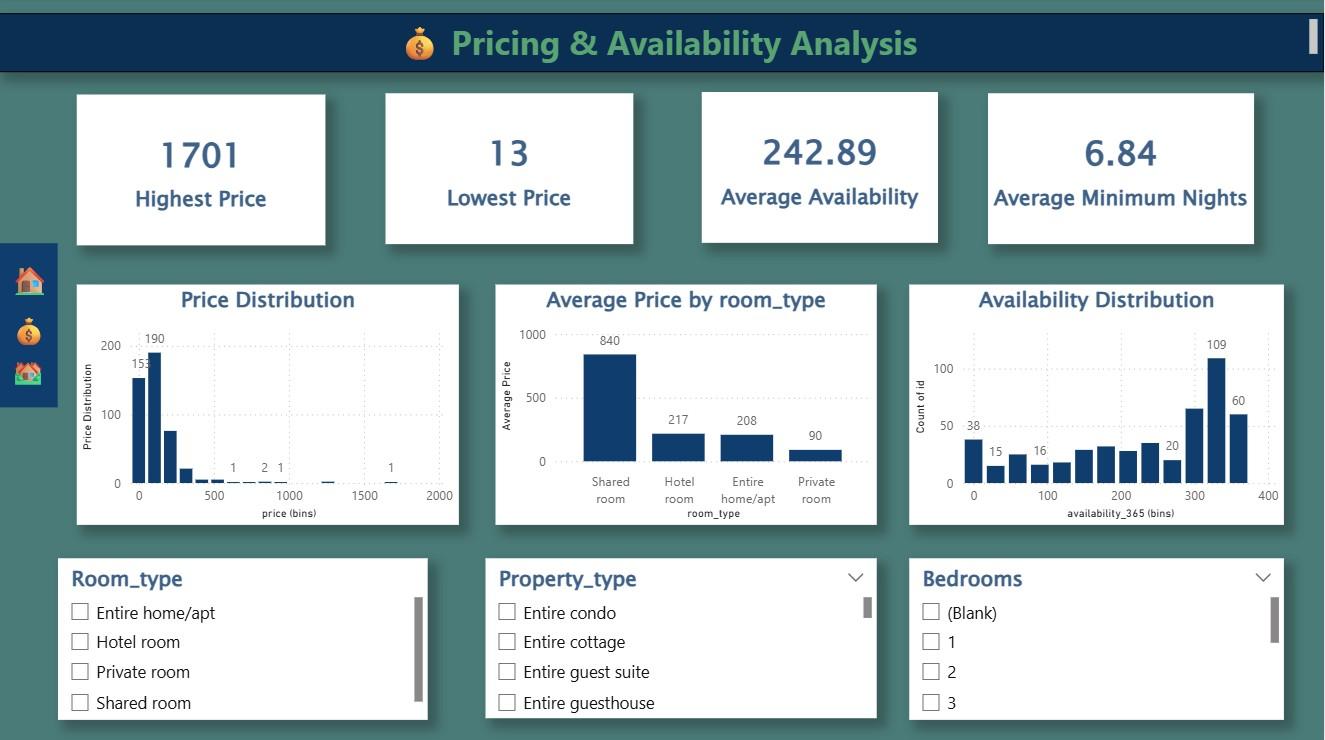

Layout of this report page (visuals, bound fields, positions):
{"tool":"powerbi","page":{"name":"Pricing & Availability","canvas":[1280,720],"ordinal":1},"visuals":[{"type":"textbox","box":[0,15.7,1280,56.7],"z":0},{"type":"card","fields":{"Values":["Fields.Highest Price"]},"box":[76,94.1,240.1,146],"z":1000},{"type":"card","fields":{"Values":["Fields.Lowest Price"]},"box":[374,92.9,238.9,146],"z":2000},{"type":"card","fields":{"Values":["Fields.Average Availability"]},"box":[679.2,91.7,228,146],"z":3000},{"type":"card","fields":{"Values":["Fields.Average Minimum Nights"]},"box":[955.5,92.9,257,146],"z":4000},{"type":"clusteredColumnChart","title":" Price Distribution","fields":{"Category":["Listings.price (bins)"],"Y":["CountNonNull(Listings.id)"]},"box":[76,277.5,369.2,231.6],"z":6000},{"type":"clusteredColumnChart","fields":{"Category":["Listings.room_type"],"Y":["Fields.Average Price"]},"box":[480.2,277.5,368,231.6],"z":7000},{"type":"clusteredColumnChart","title":"Availability Distribution","fields":{"Y":["CountNonNull(Listings.id)"],"Category":["Listings.availability_365 (bins)"]},"box":[879.5,277.5,361.9,231.6],"z":8000},{"type":"slicer","fields":{"Values":["Listings.room_type"]},"box":[57.9,541.7,357.1,155.6],"z":9000},{"type":"slicer","fields":{"Values":["Listings.property_type"]},"box":[470.5,541.7,377.6,154.4],"z":10000},{"type":"slicer","fields":{"Values":["Listings.bedrooms"]},"box":[879.5,541.7,361.9,155.6],"z":11000},{"type":"textbox","box":[0,237.7,57.9,158],"z":11001},{"type":"actionButton","box":[7.2,249.7,44.6,39.8],"z":11002},{"type":"actionButton","box":[4.8,299.2,49.5,39.8],"z":11003},{"type":"actionButton","box":[1.2,339,55.5,39.8],"z":11004}]}

Visuals, with their boxes in screenshot pixels (x1, y1, x2, y2):
textbox: [0,6,1324,66]
card - Fields.Highest Price: [66,88,318,241]
card - Fields.Lowest Price: [378,87,629,240]
card - Fields.Average Availability: [698,86,937,239]
card - Fields.Average Minimum Nights: [988,87,1258,240]
" Price Distribution" clusteredColumnChart: [66,281,453,523]
clusteredColumnChart - Listings.room_type x Fields.Average Price: [490,281,876,523]
"Availability Distribution" clusteredColumnChart: [908,281,1288,523]
slicer - Listings.room_type: [47,558,421,721]
slicer - Listings.property_type: [480,558,875,720]
slicer - Listings.bedrooms: [908,558,1288,721]
textbox: [0,239,47,405]
actionButton: [0,251,41,293]
actionButton: [0,303,43,345]
actionButton: [0,345,46,387]
